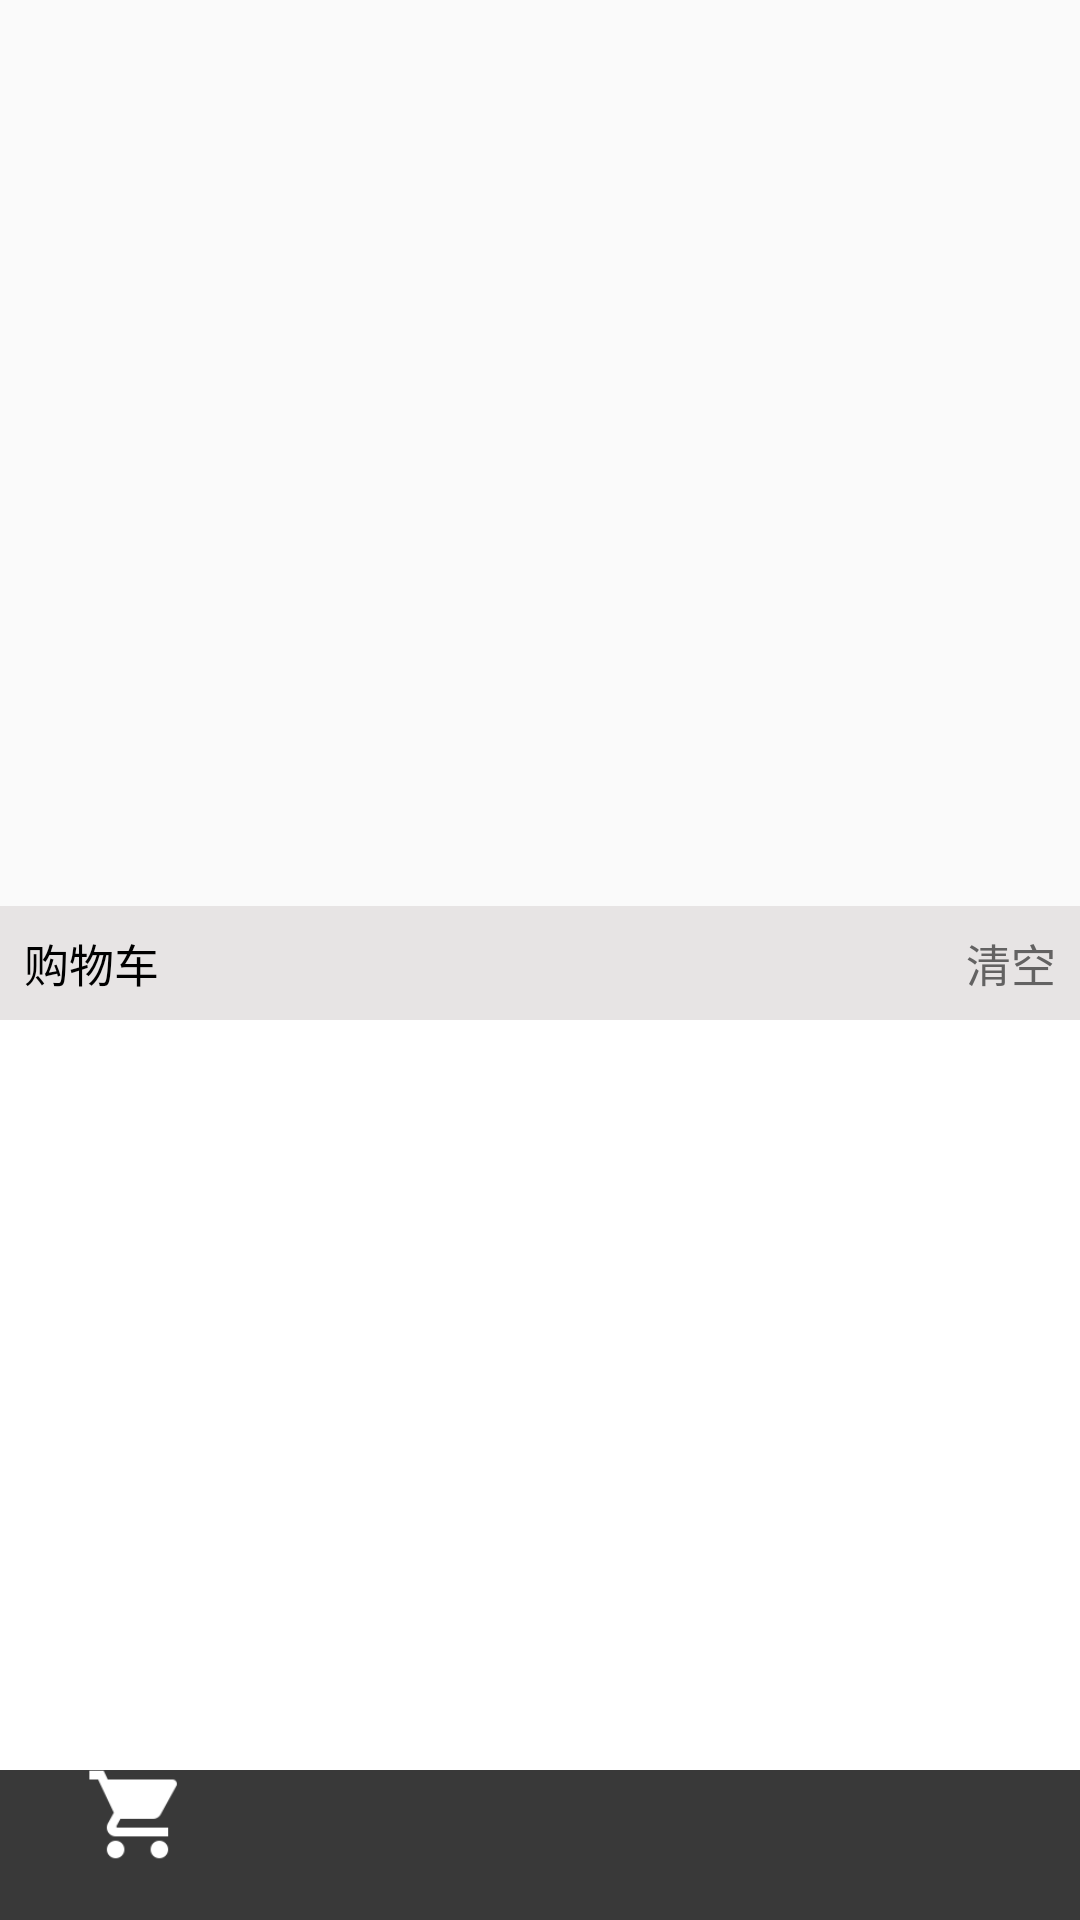

Screen size 1080 x 1920. Icon name, then its box in pixels as (x1, y1, x2, y2):
shopping cart: (85, 1762, 190, 1859)
